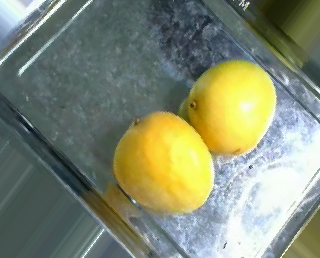Mango: (111, 109, 213, 217), (185, 61, 275, 156)
